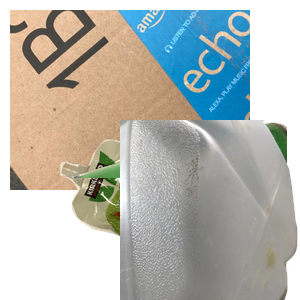cardboard: (10, 10, 250, 190)
glass: (60, 120, 300, 300)
plastic: (120, 120, 300, 300)
trash: (57, 137, 257, 300)
